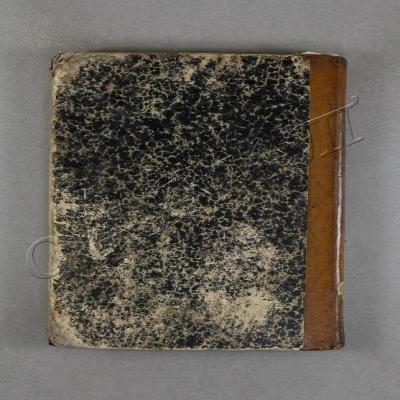rare_books: (46, 51, 357, 352)
